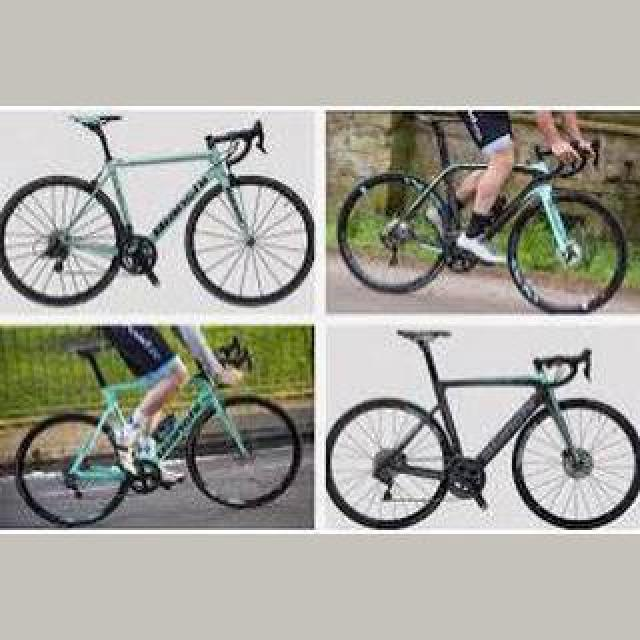Person: (326, 322, 640, 530), (0, 114, 318, 308), (336, 114, 632, 316), (10, 324, 304, 526)
